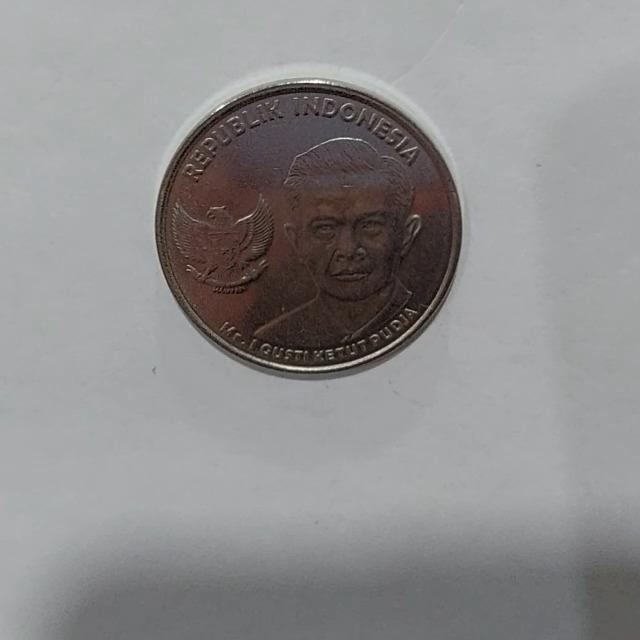Rp100: (153, 71, 464, 379), (238, 133, 427, 353)
